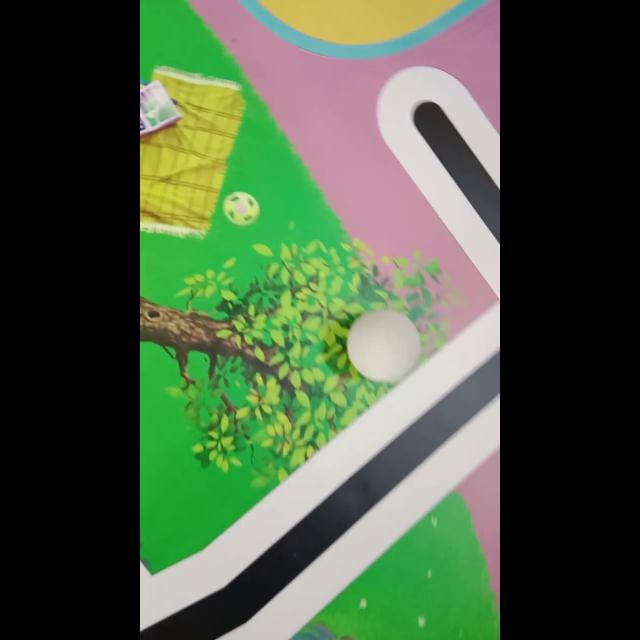white ball: (346, 308, 422, 384)
